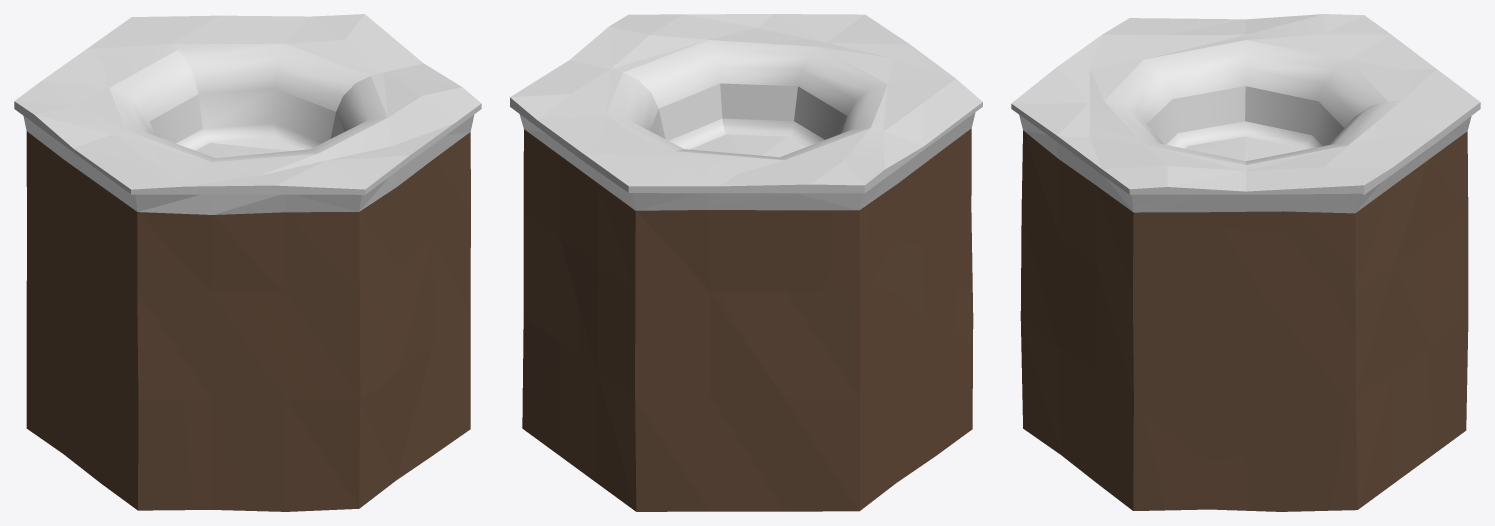
File: oasisShore.fbx
The picture shows the model from 3 angles, left to right: view 1: azimuth 30°, elevation 25°; view 2: azimuth 150°, elevation 25°; view 3: azimuth 270°, elevation 25°; orthographic projection.
Parts seen in each view (by area): view 1: hexagonTile-land02; view 2: hexagonTile-land02; view 3: hexagonTile-land02.
Boxes of the visible parts, <box> form: hexagonTile-land02: <box>14,14,481,511</box>; hexagonTile-land02: <box>510,14,982,511</box>; hexagonTile-land02: <box>1011,14,1480,511</box>.
Size of the model in its own units: 1498 by 1347 by 1729.
